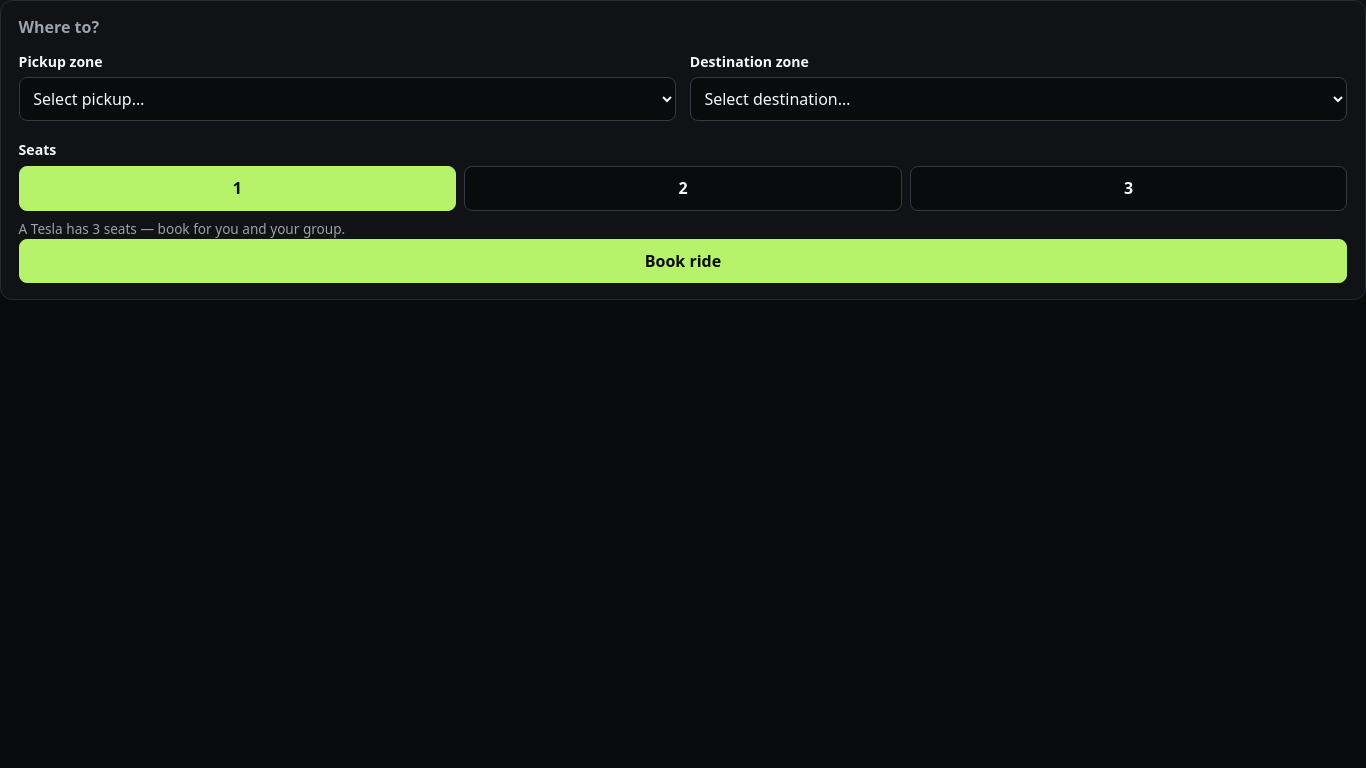
Test: RideForm › renders the backend estimate verbatim once the route and seats are valid
The width and height of the screenshot is (1366, 768).
Step 1. Select "Banani" in the dropdown labelled "Pickup zone" → (347, 99), box [19,77,676,121]
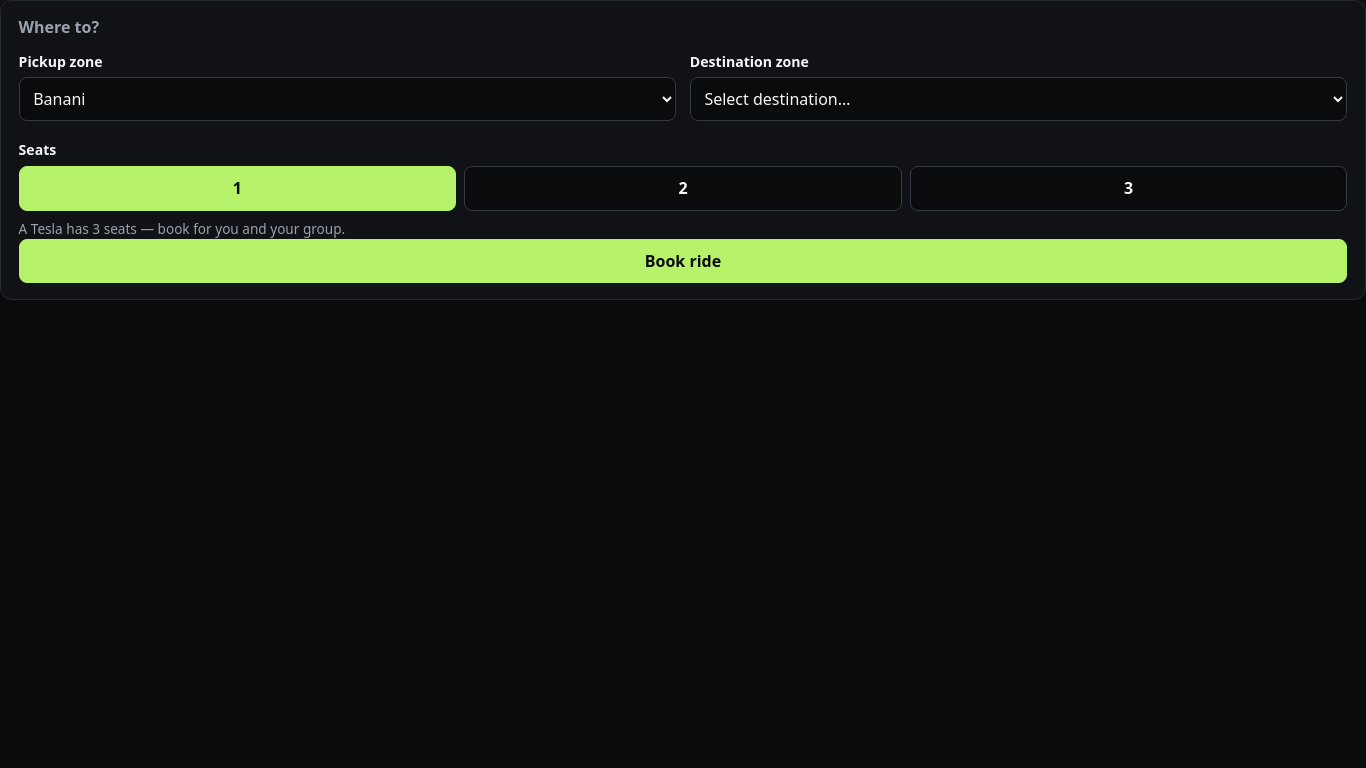
Step 2. Select "Mohakhali" in the dropdown labelled "Destination zone" → (1019, 99), box [690,77,1347,121]
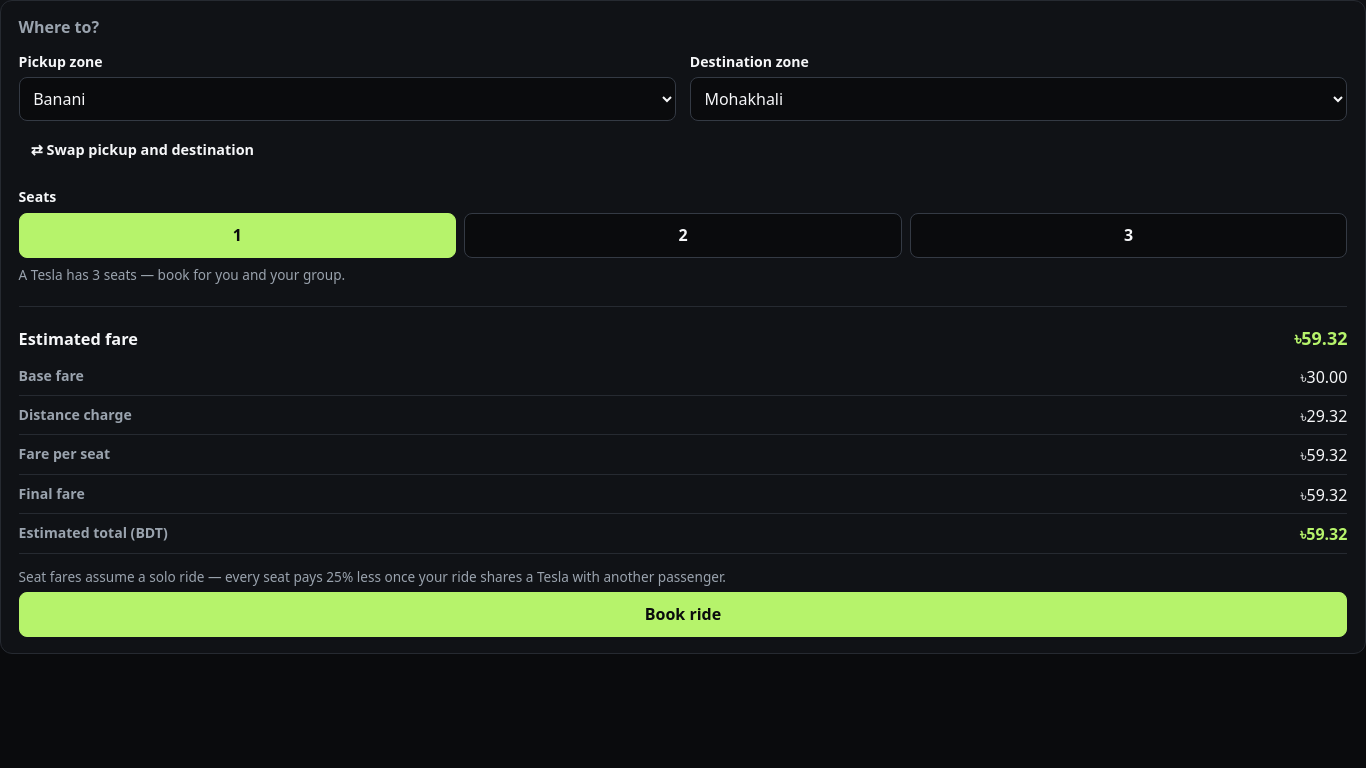
Expected: the heading "Estimated fare" is shown, [19,329,138,349]
Expected: the text "Base fare" is shown, [19,365,84,390]
Expected: the text "৳59.32" in the row of "Estimated fare" is shown, [1294,326,1347,350]
